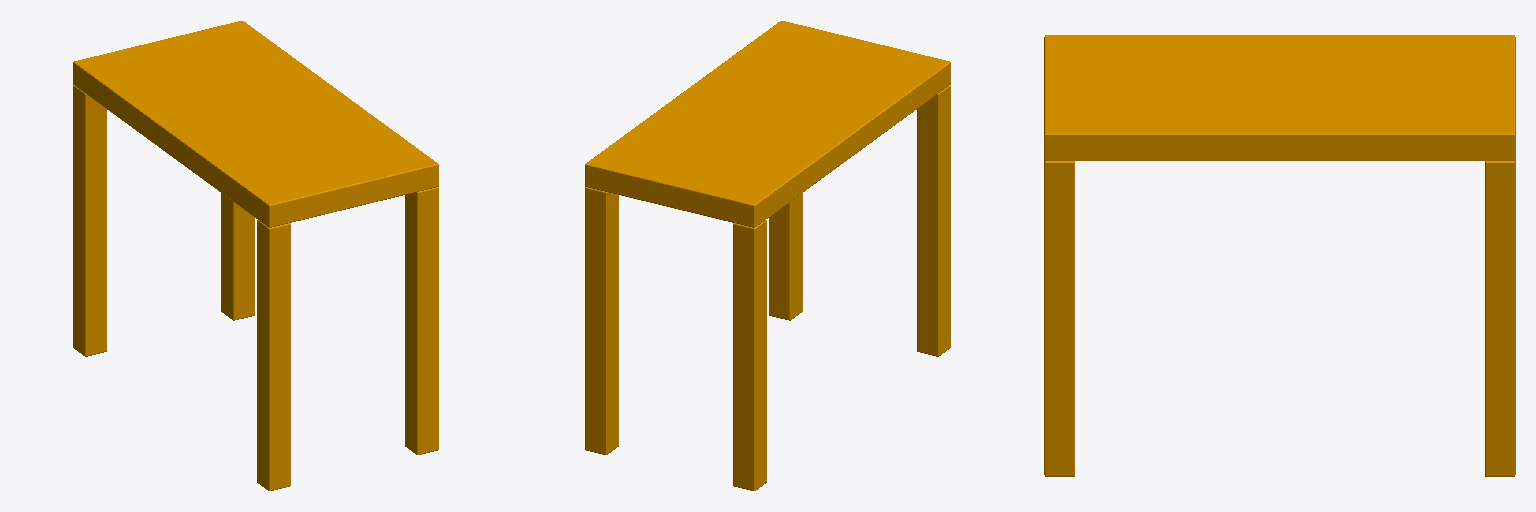
robot.urdf — arat_standard_shelf:
<?xml version="1.0" ?>
<robot name="arat_standard_shelf">
  <link name="base_link">
    <inertial>
      <origin xyz="0 0 0.185" rpy="0 0 0"/>
      <mass value="2.199"/>
      <inertia ixx="0.063862625" ixy="0" ixz="0" iyy="0.03478085" iyz="0" izz="0.048469625"/>
    </inertial>
    <visual name="visual">
      <origin xyz="0 0 0" rpy="0 0 0"/>
      <geometry>
        <mesh filename="meshes/visual.obj" scale="1 1 1"/>
      </geometry>
    </visual>
    <collision name="top_plank">
      <origin xyz="0 0 0" rpy="0 0 0"/>
      <geometry>
        <mesh filename="meshes/collision/top_plank.obj" scale="1 1 1"/>
      </geometry>
    </collision>
    <collision name="post_1">
      <origin xyz="0 0 0" rpy="0 0 0"/>
      <geometry>
        <mesh filename="meshes/collision/post_1.obj" scale="1 1 1"/>
      </geometry>
    </collision>
    <collision name="post_2">
      <origin xyz="0 0 0" rpy="0 0 0"/>
      <geometry>
        <mesh filename="meshes/collision/post_2.obj" scale="1 1 1"/>
      </geometry>
    </collision>
    <collision name="post_3">
      <origin xyz="0 0 0" rpy="0 0 0"/>
      <geometry>
        <mesh filename="meshes/collision/post_3.obj" scale="1 1 1"/>
      </geometry>
    </collision>
    <collision name="post_4">
      <origin xyz="0 0 0" rpy="0 0 0"/>
      <geometry>
        <mesh filename="meshes/collision/post_4.obj" scale="1 1 1"/>
      </geometry>
    </collision>
  </link>
</robot>

--- Render facts (derived) ---
Views: 3 orthographic renders of the robot side by side, from view 1: azimuth 30°, elevation 25°; view 2: azimuth 150°, elevation 25°; view 3: azimuth 270°, elevation 25°.
Model arat_standard_shelf with 1 links and 0 joints (none), rooted at base_link, posed every joint at zero.
Links seen in each view (by area): view 1: base_link; view 2: base_link; view 3: base_link.
Boxes of the visible links, x1,y1,x2,y2 form: base_link: (73,21,438,490); base_link: (585,21,950,490); base_link: (1044,35,1515,476).
Bounding box of the posed robot: 0.23 × 0.46 × 0.37 m (x, y, z).
1 mesh visuals loaded from 1 distinct referenced files (1 OBJ).
